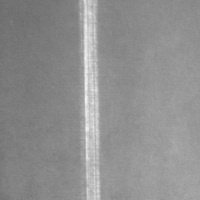scratches: (77, 1, 104, 200)
